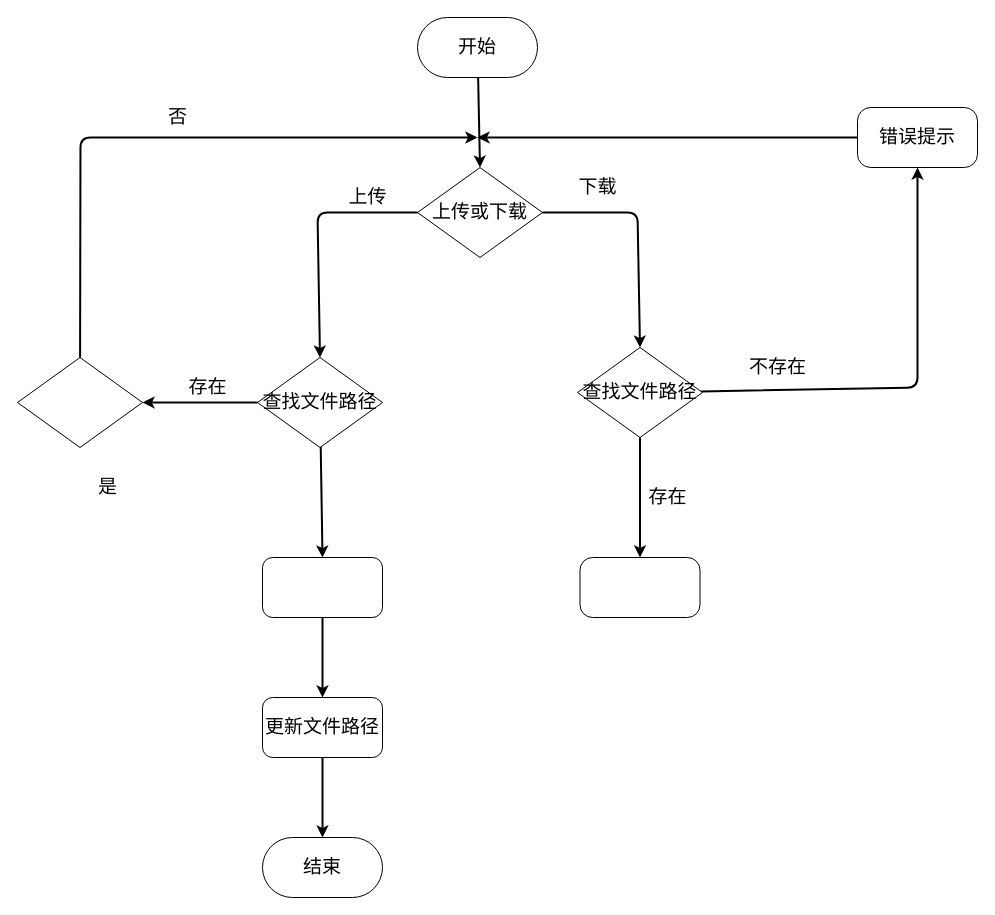
The diagram is 995 pixels wide and 915 high, and some of its shapes have lost their labels. The centre of each missing label's shape, as x and y in pixels:
"上传成功" belongs at [322,587].
"是否更新" belongs at [79,402].
"获取文件" belongs at [639,587].
